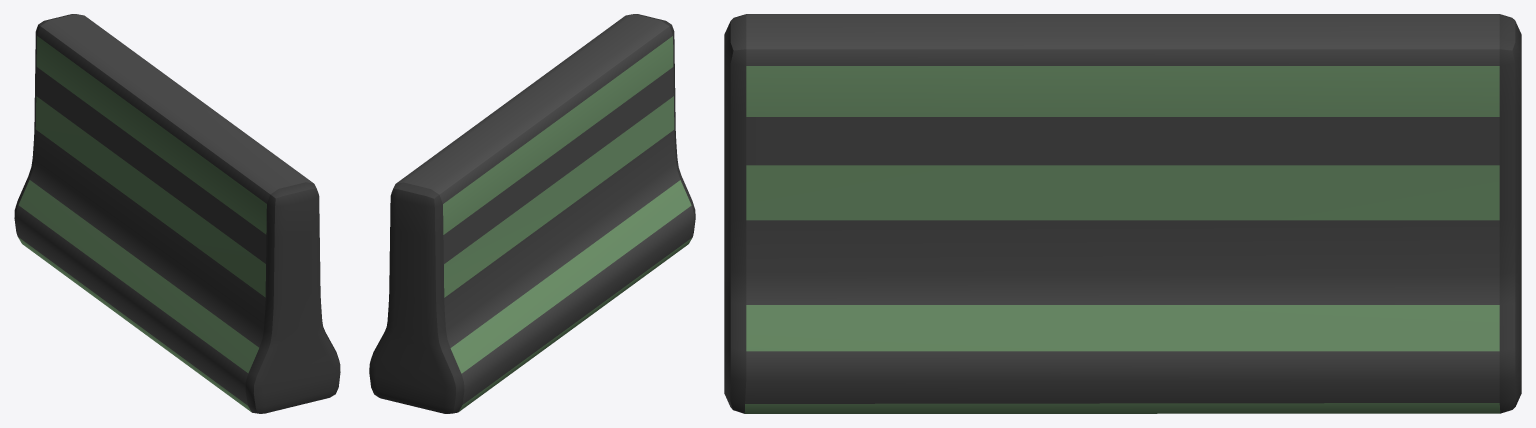
Rendered from Barricade.fbx.
The picture shows the model from 3 angles, left to right: view 1: azimuth 30°, elevation 25°; view 2: azimuth 150°, elevation 25°; view 3: azimuth 270°, elevation 25°; orthographic projection. The views are drawn at different scales.
Visible parts, largest first — view 1: Barricade; view 2: Barricade; view 3: Barricade.
Boxes of the visible parts, x1,y1,x2,y2 form: Barricade: [14, 14, 340, 413]; Barricade: [369, 14, 695, 413]; Barricade: [724, 14, 1521, 413].
Size of the model in its own units: 1.33 by 3 by 6.
